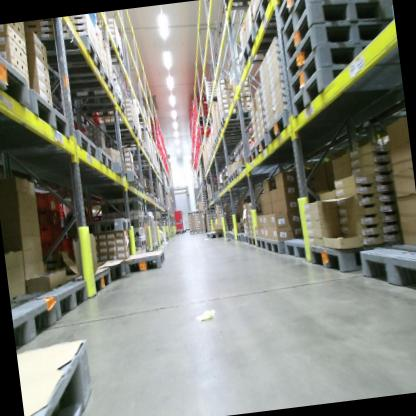pallet: (282, 14, 400, 83), (285, 37, 399, 102), (285, 55, 400, 119), (279, 0, 391, 64), (17, 335, 101, 416), (0, 119, 101, 176), (263, 96, 358, 148), (8, 274, 89, 333), (0, 83, 71, 145), (355, 235, 416, 304), (41, 28, 104, 81), (41, 139, 116, 181), (253, 124, 335, 160), (0, 29, 32, 121), (48, 60, 115, 101), (10, 293, 59, 349), (238, 21, 287, 73), (305, 236, 362, 279), (68, 259, 114, 302), (75, 90, 125, 120), (124, 246, 167, 277), (97, 192, 145, 219), (251, 0, 280, 35), (218, 105, 255, 132), (283, 235, 312, 264), (93, 213, 133, 234), (101, 120, 139, 140), (91, 158, 124, 181), (280, 0, 307, 27), (102, 256, 128, 284), (216, 120, 255, 138), (113, 131, 144, 149), (223, 0, 255, 17), (264, 235, 291, 255), (107, 36, 125, 65), (213, 130, 240, 145), (213, 137, 241, 150), (231, 162, 249, 181), (131, 226, 147, 247), (129, 211, 147, 229), (246, 141, 257, 169), (275, 0, 291, 19), (205, 225, 225, 239), (205, 91, 221, 108), (131, 154, 154, 165), (130, 148, 149, 161), (126, 170, 140, 187), (254, 232, 266, 251), (235, 230, 247, 246), (132, 114, 147, 126), (246, 231, 257, 247), (141, 192, 156, 203), (227, 169, 235, 186), (221, 176, 230, 191), (203, 204, 217, 213), (142, 214, 152, 226), (150, 241, 160, 252), (218, 182, 226, 195), (138, 182, 146, 195), (242, 232, 248, 246), (213, 189, 220, 200), (134, 183, 141, 193), (197, 227, 207, 234), (226, 228, 232, 239), (230, 230, 236, 241), (187, 209, 196, 216), (189, 228, 198, 234), (224, 229, 229, 239), (195, 208, 202, 213)
